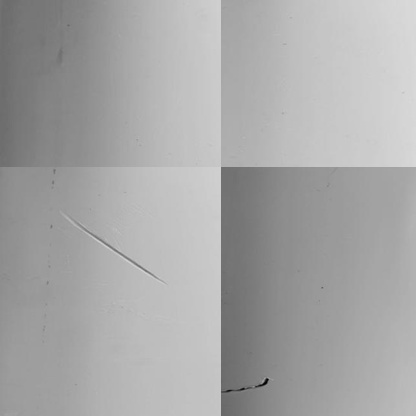fengxi: (225, 376, 274, 394)
sunshang: (63, 210, 165, 285)
